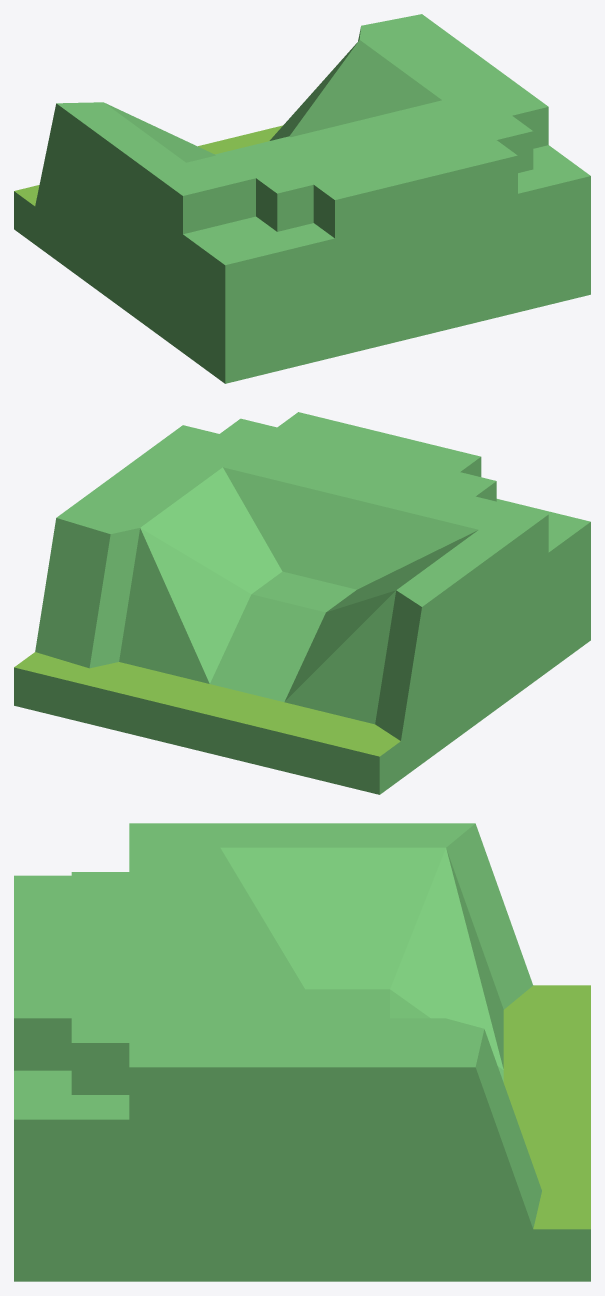
File: x_zem_1_8_part1_1_rmstrd.fbx
The picture shows the model from 3 angles, top to bottom: view 1: azimuth 30°, elevation 25°; view 2: azimuth 150°, elevation 25°; view 3: azimuth 270°, elevation 25°; orthographic projection. The views are drawn at different scales.
Parts seen in each view (by area): view 1: x_zem_1_8_part1_1_rmstrd1; view 2: x_zem_1_8_part1_1_rmstrd1; view 3: x_zem_1_8_part1_1_rmstrd1.
Part boxes in pixels (bbox=[...]): x_zem_1_8_part1_1_rmstrd1: bbox=[14, 14, 590, 383]; x_zem_1_8_part1_1_rmstrd1: bbox=[14, 412, 590, 794]; x_zem_1_8_part1_1_rmstrd1: bbox=[14, 823, 590, 1281].
Bounding box in the file's own units: 10 × 4.1 × 10.
